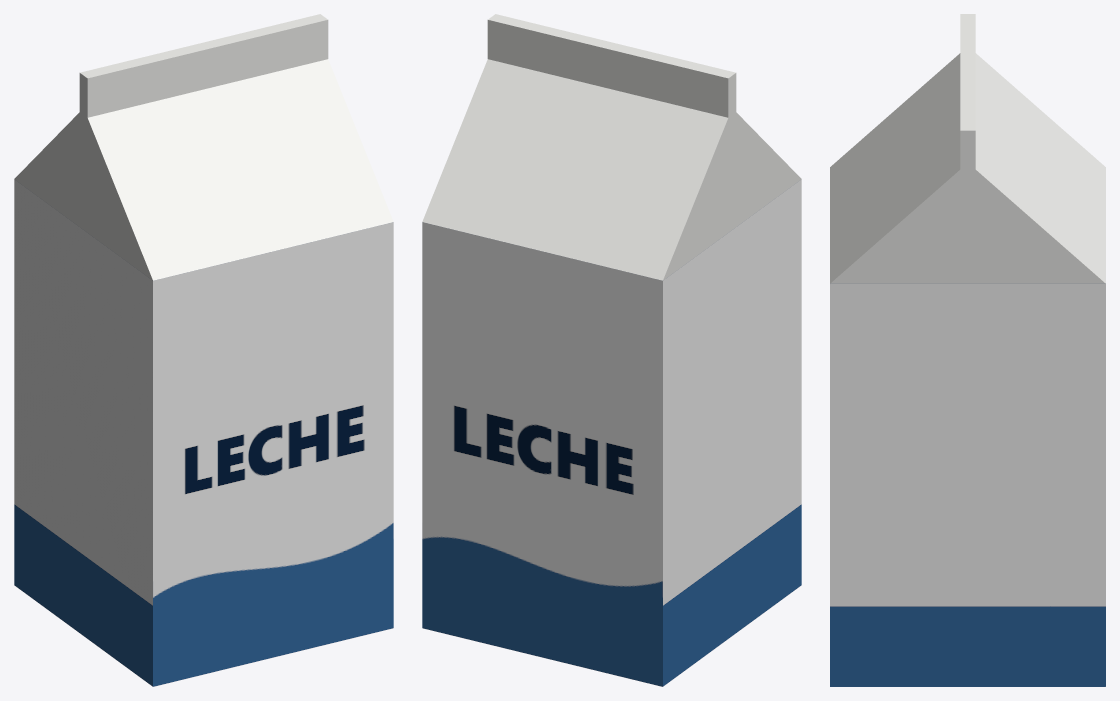
The model's file is leche.fbx.
3 renders of one model, left to right at view 1: azimuth 30°, elevation 25°; view 2: azimuth 150°, elevation 25°; view 3: azimuth 270°, elevation 25°, orthographic.
Parts seen in each view (by area): view 1: etiqueta, f6f6f3, f6f6f3_02; view 2: etiqueta, f6f6f3, f6f6f3_02; view 3: etiqueta, f6f6f3, f6f6f3_02.
Boxes of the visible parts, box(x1,y1,x2,y2) form: etiqueta: box(14, 179, 393, 686); f6f6f3: box(14, 59, 393, 280); f6f6f3_02: box(79, 14, 328, 118); etiqueta: box(422, 179, 801, 686); f6f6f3: box(422, 59, 801, 280); f6f6f3_02: box(487, 14, 736, 118); etiqueta: box(830, 283, 1105, 686); f6f6f3: box(830, 53, 1105, 283); f6f6f3_02: box(960, 14, 975, 170).
Bounding box in the file's own units: 0.7638 × 1.7 × 0.7638.
3 materials, 2 textured.
